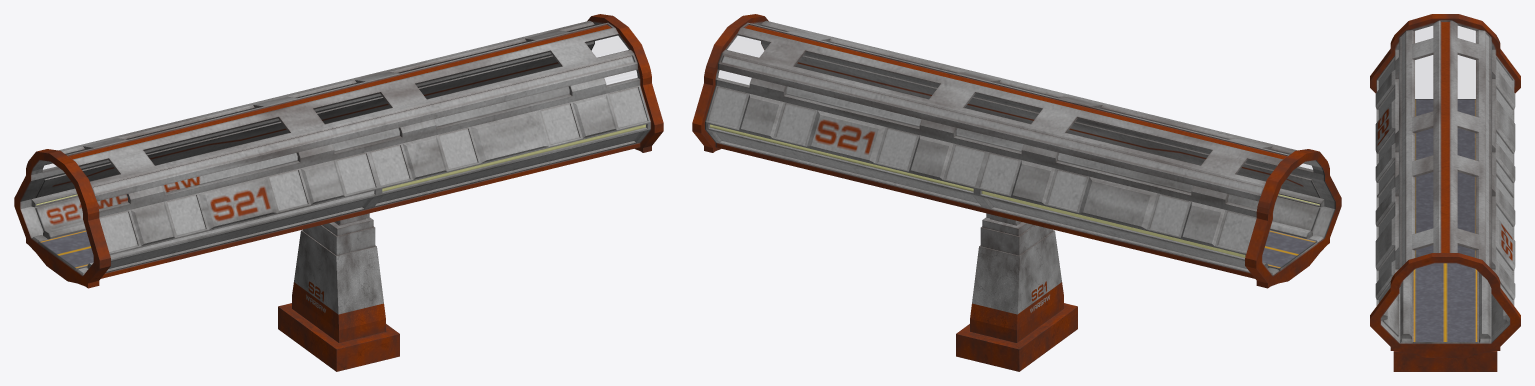
The model's file is scifi_bridge.glb.
The picture shows the model from 3 angles, left to right: view 1: azimuth 30°, elevation 25°; view 2: azimuth 150°, elevation 25°; view 3: azimuth 270°, elevation 25°; orthographic projection. The views are drawn at different scales.
Parts seen in each view (by area): view 1: Object_3, Object_2; view 2: Object_3, Object_2; view 3: Object_3, Object_2.
Part boxes in pixels (x1=…): Object_3: x1=14, y1=14, x2=663, y2=288; Object_2: x1=278, y1=213, x2=399, y2=371; Object_3: x1=692, y1=14, x2=1341, y2=288; Object_2: x1=956, y1=213, x2=1077, y2=371; Object_3: x1=1370, y1=14, x2=1520, y2=357; Object_2: x1=1393, y1=351, x2=1497, y2=371.
Bounding box in the file's own units: 63.68 × 27.24 × 16.71.
2 materials, 2 textured.
